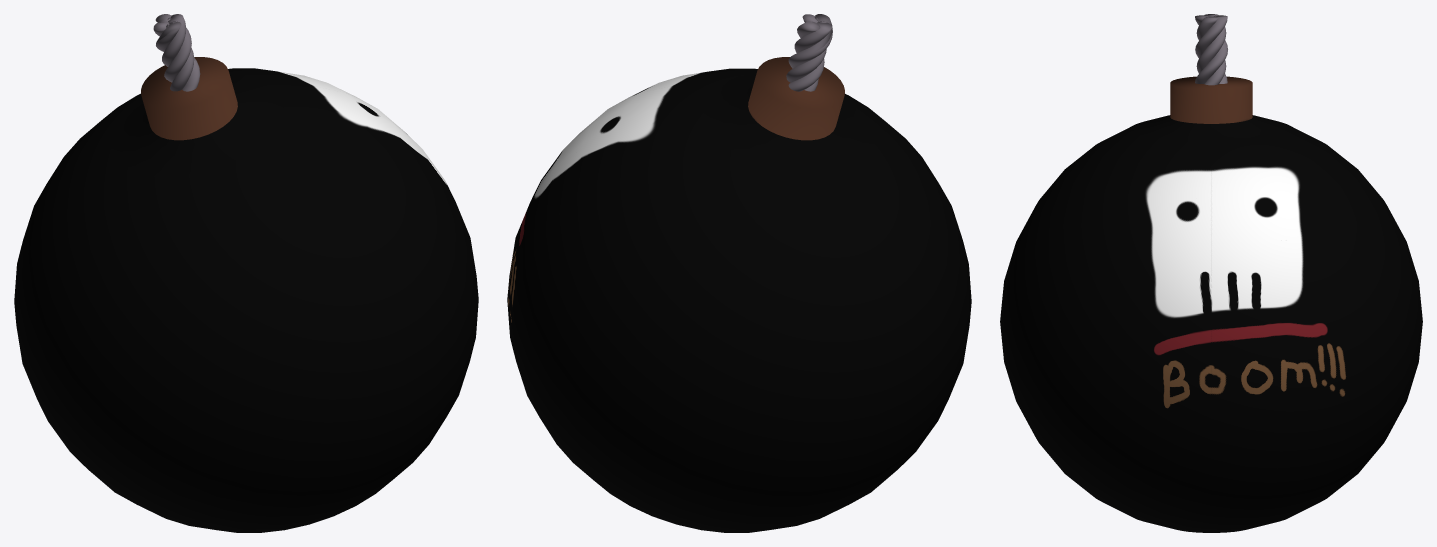
Rendered from Bomb.fbx.
3 renders of one model, left to right at view 1: azimuth 30°, elevation 25°; view 2: azimuth 150°, elevation 25°; view 3: azimuth 270°, elevation 25°, orthographic. The views are drawn at different scales.
Parts seen in each view (by area): view 1: Sphere; view 2: Sphere; view 3: Sphere.
Boxes of the visible parts, bbox=[...] form: Sphere: bbox=[14, 14, 478, 532]; Sphere: bbox=[507, 14, 971, 532]; Sphere: bbox=[1000, 14, 1422, 532].
Size of the model in its own units: 199 by 243 by 200.
1 material, 1 textured.
